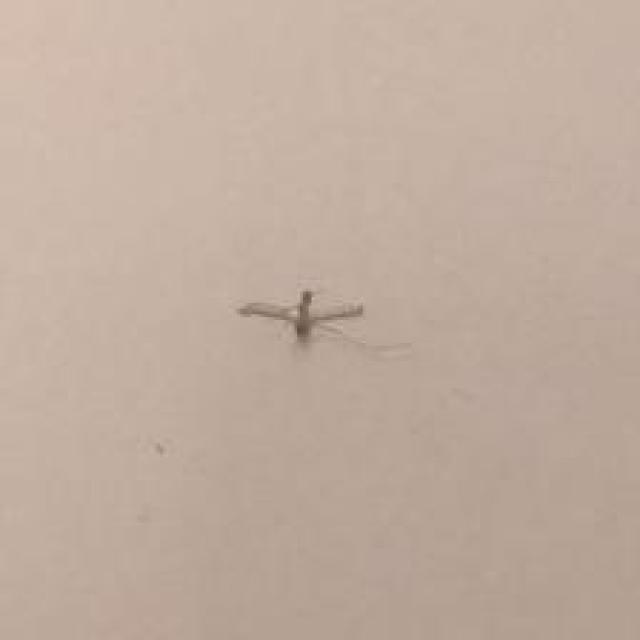Culex: (236, 287, 364, 347)
